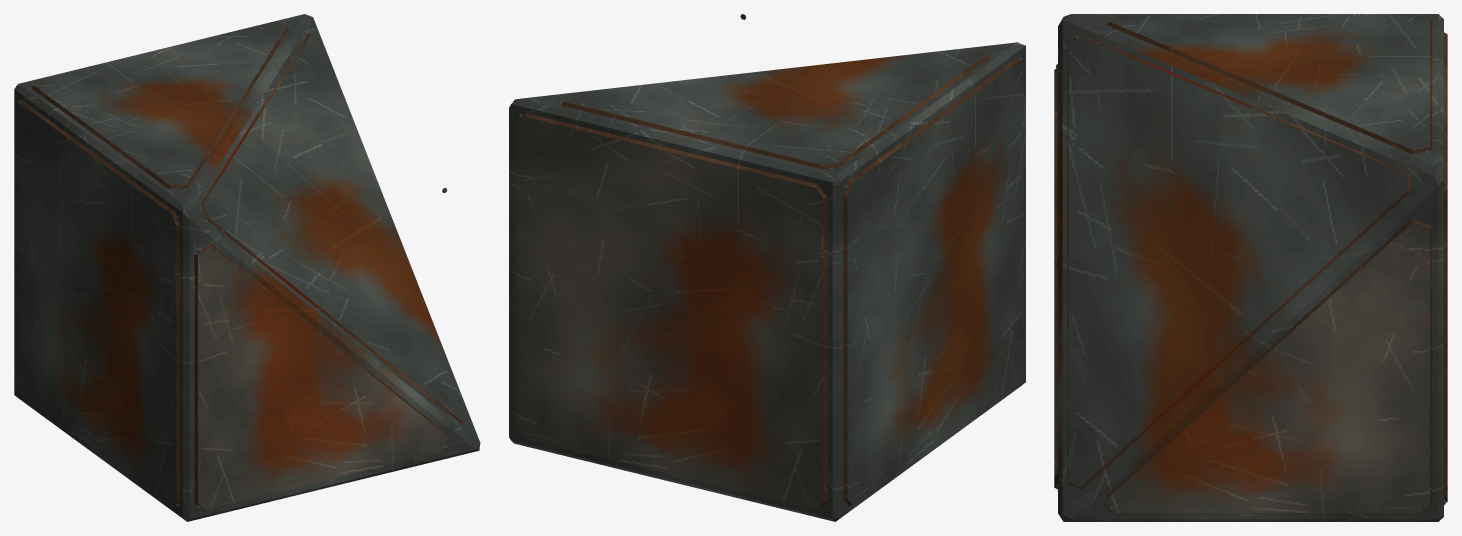
The model's file is R4B_InnerCorner.glb.
3 views of the same model, side by side, from view 1: azimuth 30°, elevation 25°; view 2: azimuth 150°, elevation 25°; view 3: azimuth 270°, elevation 25° (orthographic). The views are drawn at different scales.
Visible parts, largest first — view 1: R4B_InnerCorner; view 2: R4B_InnerCorner; view 3: R4B_InnerCorner.
Part boxes in pixels (x1=…): R4B_InnerCorner: x1=14, y1=14, x2=480, y2=521; R4B_InnerCorner: x1=509, y1=14, x2=1025, y2=521; R4B_InnerCorner: x1=1054, y1=14, x2=1447, y2=521.
Size of the model in its own units: 0.52 by 0.52 by 0.52.
Materials: 4 (4 with a texture image).
